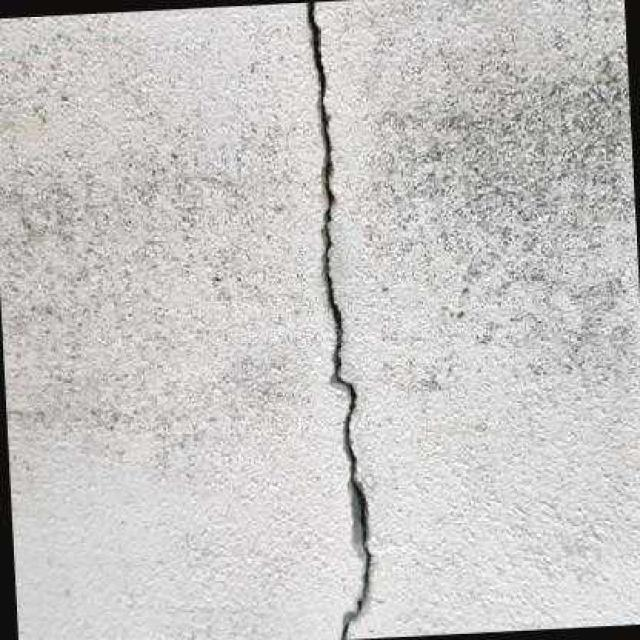D00: (305, 0, 370, 640)
